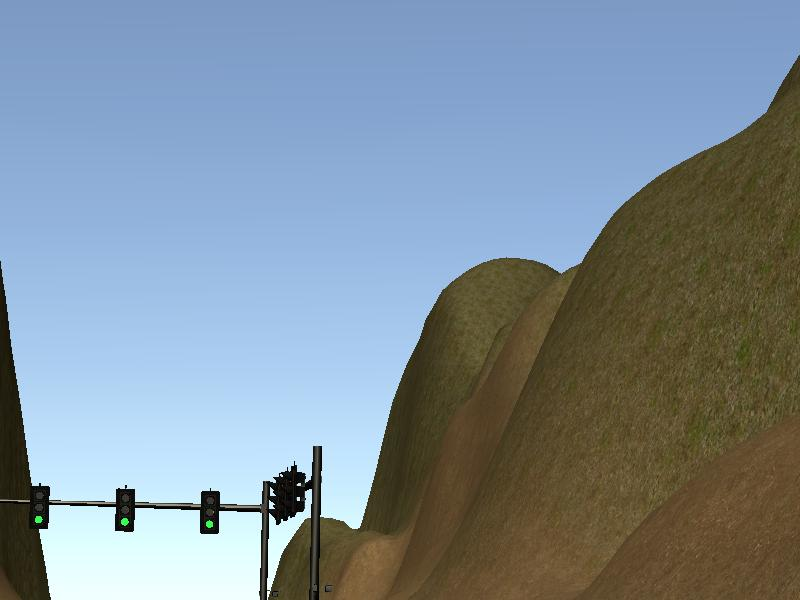Green: (116, 488, 136, 532), (32, 487, 51, 528), (201, 492, 219, 534)
